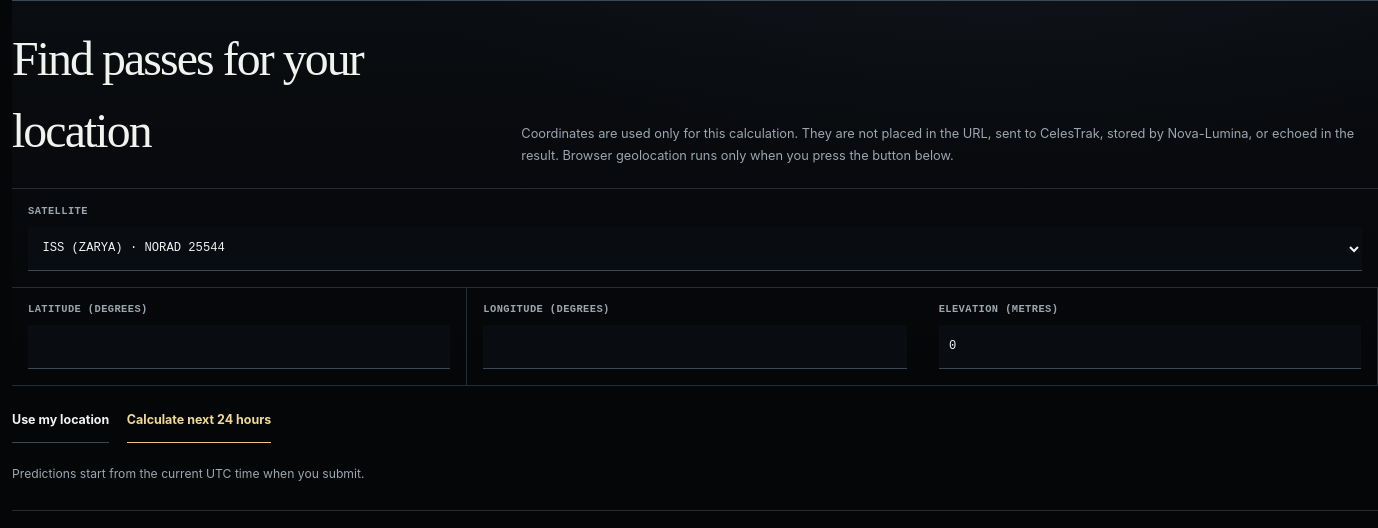
Satellite Passes page › uses browser geolocation only after an explicit button action
The width and height of the screenshot is (1378, 528).
Step 1. Click the button "Use my location" → click(61, 421), box [12,399,109,443]
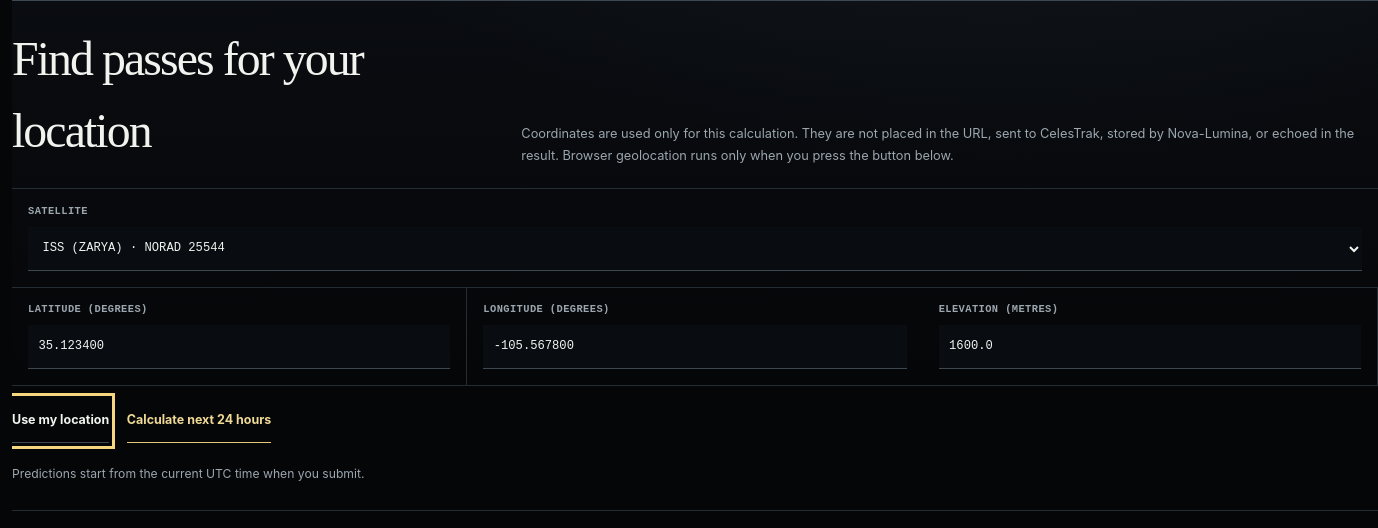
Expected: the number field labelled "Latitude (degrees)" holds "35.1234", [28,325,450,369]
Expected: the number field labelled "Longitude (degrees)" holds "-105.5678", [483,325,907,369]
Expected: the number field labelled "Elevation (metres)" holds "1600", [939,325,1361,369]
